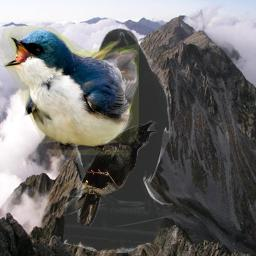Crow: (64, 28, 173, 253), (74, 119, 158, 226)
Swallow: (0, 25, 139, 155)
